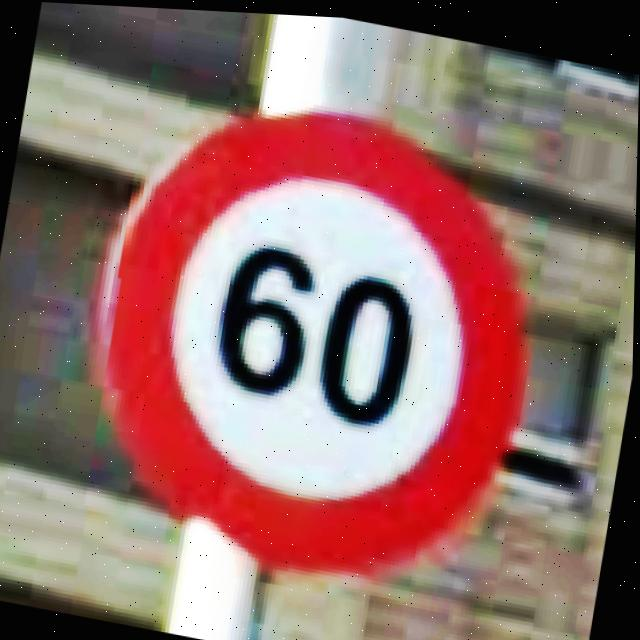max60: (63, 62, 566, 604)
